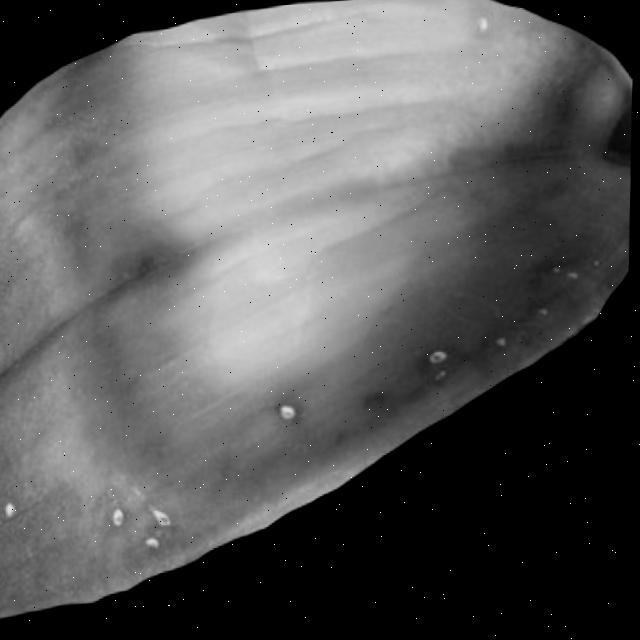mite: (0, 477, 183, 593), (267, 347, 459, 435), (106, 496, 179, 558), (0, 491, 25, 595), (265, 390, 314, 439), (416, 343, 459, 392), (146, 500, 181, 534), (273, 399, 306, 431), (106, 501, 133, 533), (0, 493, 27, 525), (140, 529, 167, 557), (363, 391, 390, 418), (489, 334, 514, 360), (152, 506, 175, 530), (279, 405, 300, 427), (428, 351, 451, 370), (112, 505, 129, 529), (4, 497, 21, 519), (146, 535, 163, 553), (535, 309, 552, 325), (495, 338, 510, 356)
